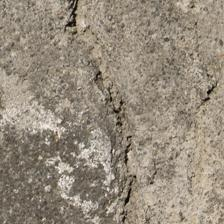Crack: (46, 33, 95, 185)
